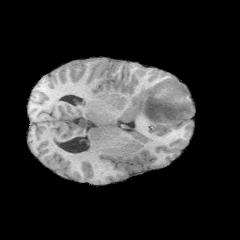glioma: (125, 84, 185, 127)
